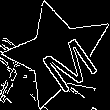M_NW: (26, 22, 95, 89)
